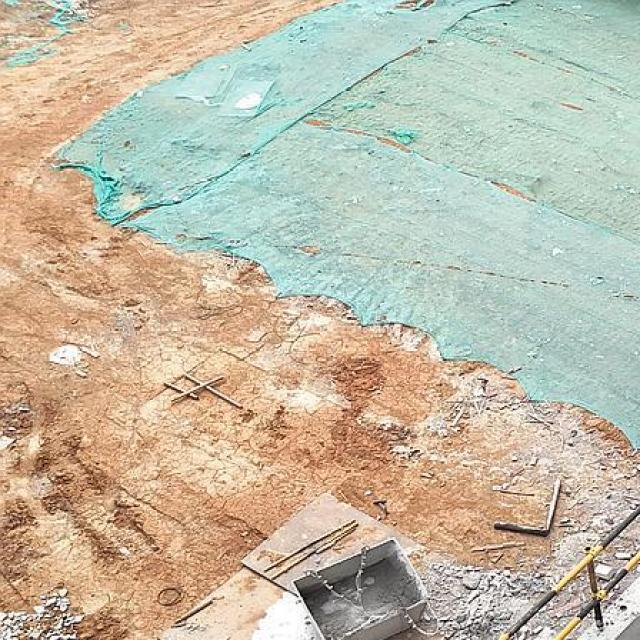edge_guardrail: (495, 505, 640, 640)
